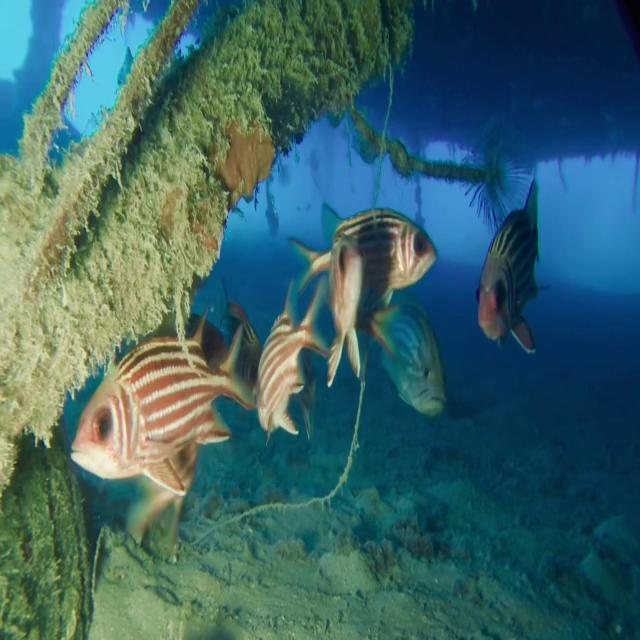Asker Baligi: (70, 343, 263, 494), (475, 172, 549, 356), (325, 204, 437, 307)
